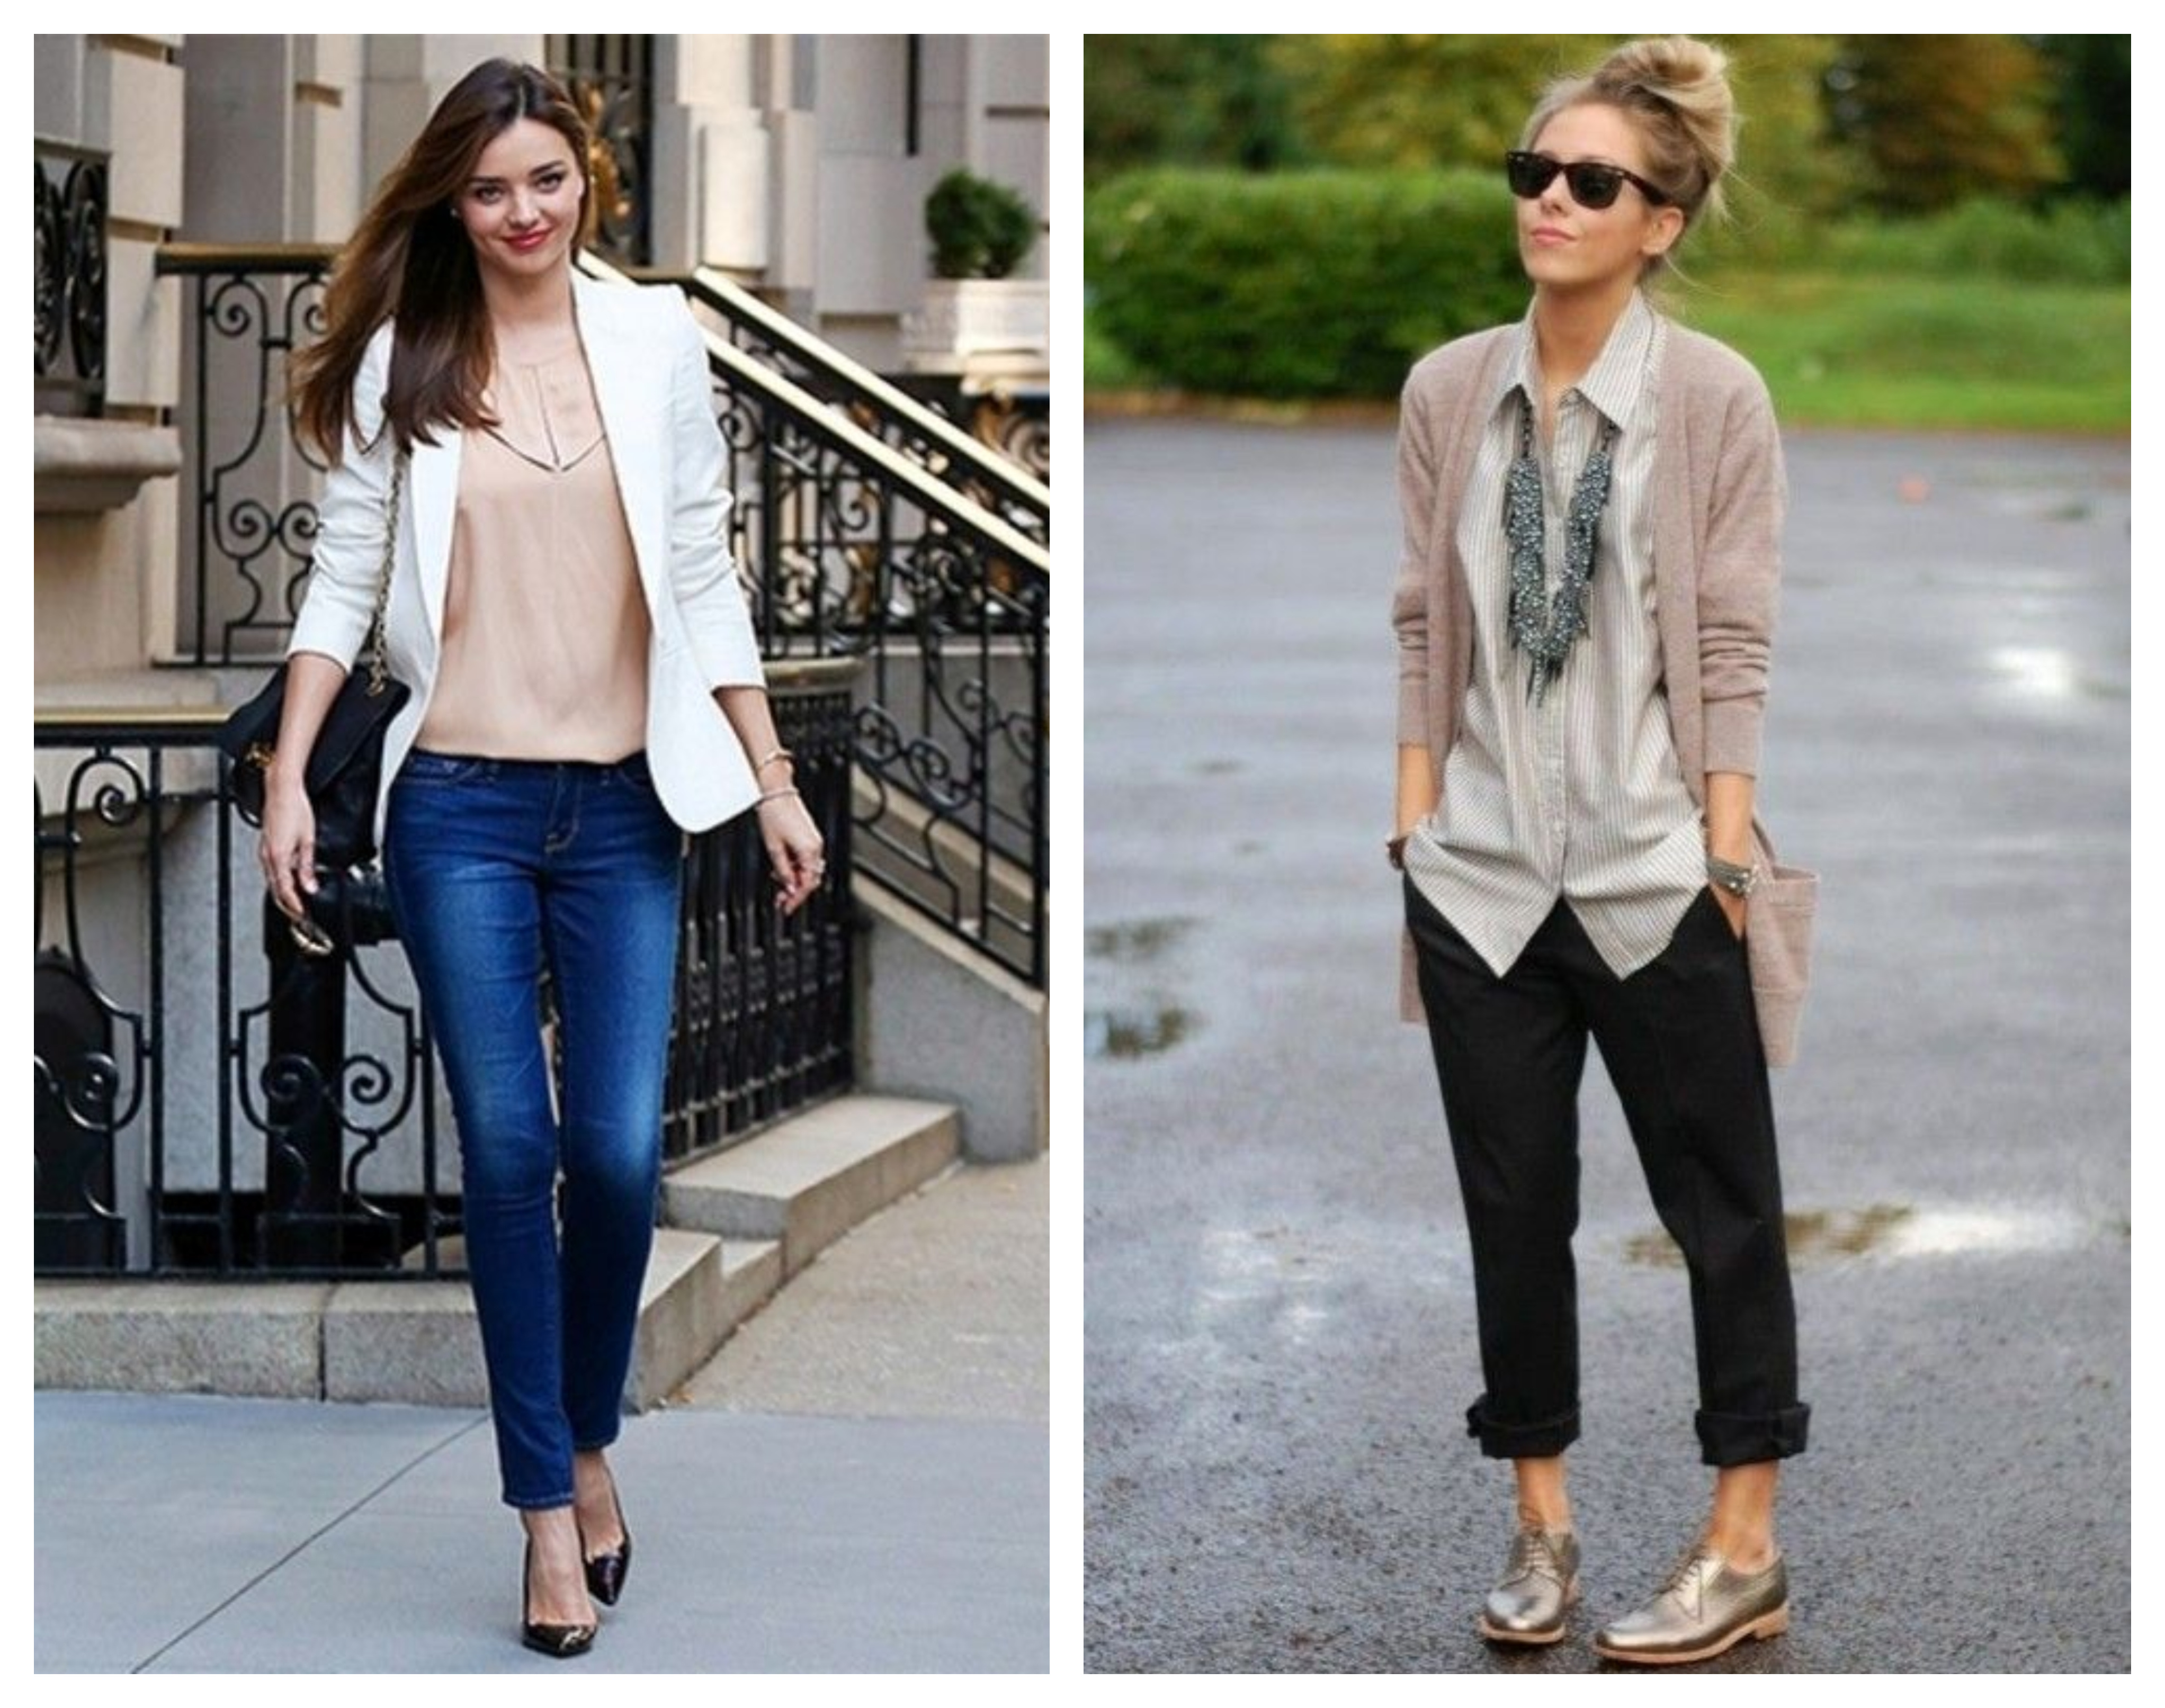F_W_suit jacket: (246, 246, 784, 815)
